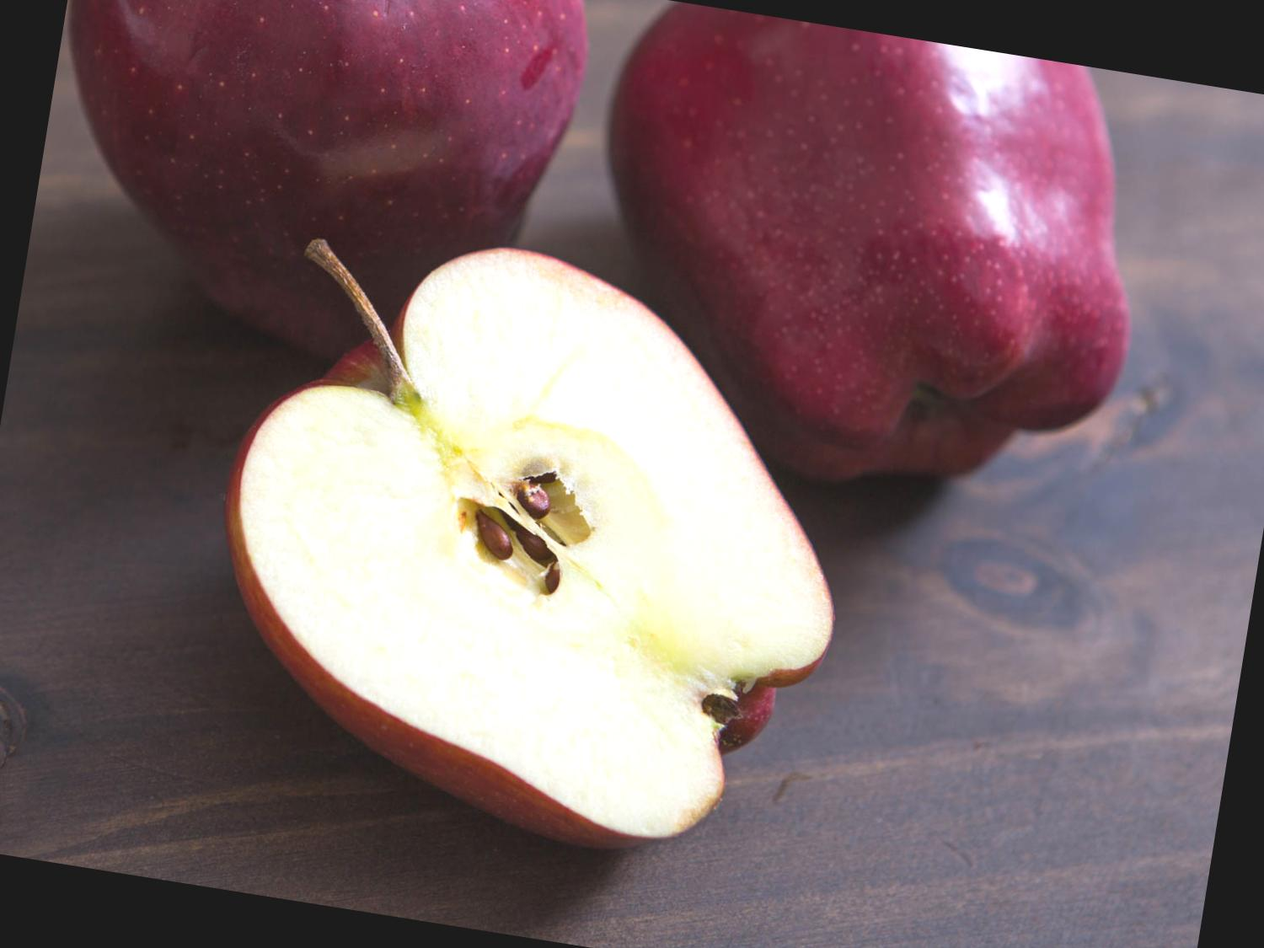Apple Ripe: (174, 184, 926, 884), (533, 0, 1264, 517)
